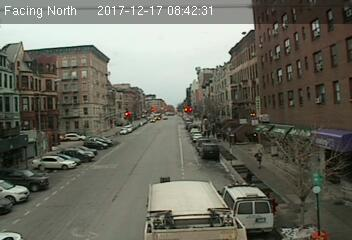car: (200, 142, 220, 161)
pedestrian: (254, 149, 263, 168)
police: (220, 181, 275, 232)
